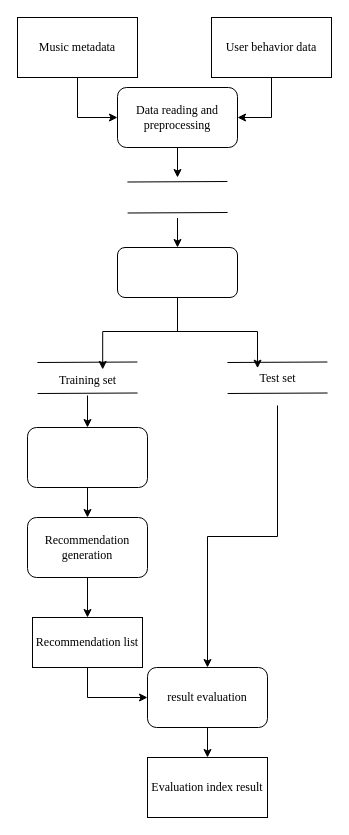
The diagram is 349 pixels wide and 835 high, and some of its shapes have lost their labels. The shapes that lost their labels are listed below. From the top down, each one's centre as x and y in pixels, then its label:
At point 177,197: "The merged data set".
At point 177,272: "Data partitioning".
At point 87,457: "UCB algorithm training".
